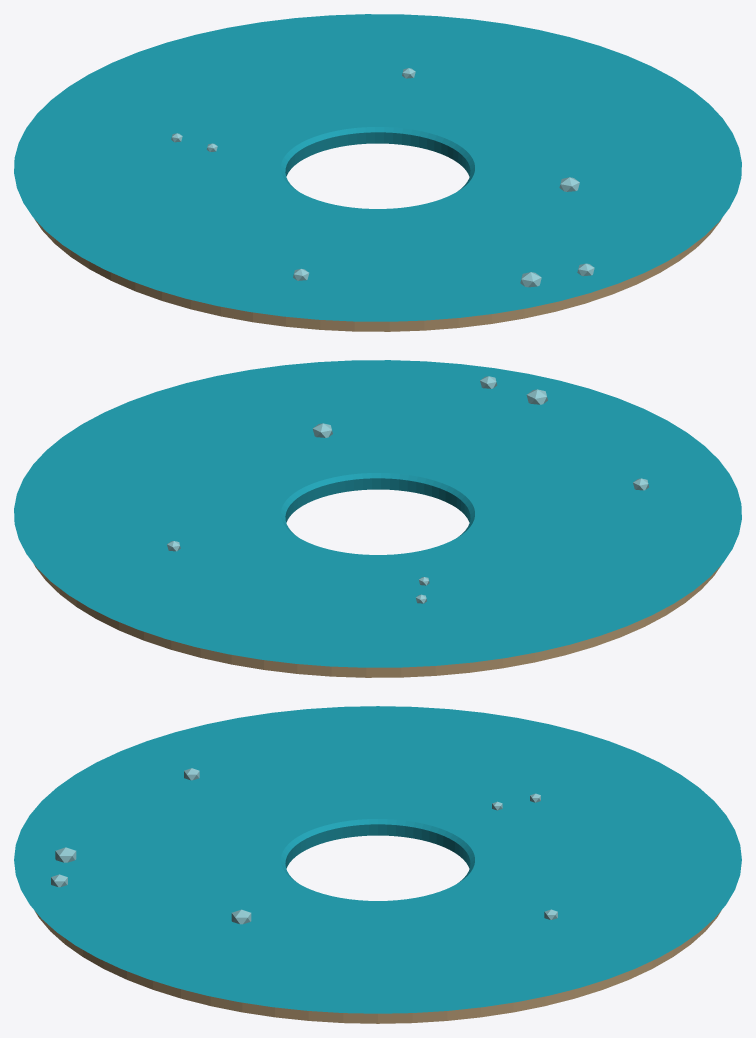
File: goo_jar_deck_3@beach.fbx
3 renders of one model, top to bottom at view 1: azimuth 30°, elevation 25°; view 2: azimuth 150°, elevation 25°; view 3: azimuth 270°, elevation 25°, orthographic.
Parts seen in each view (by area): view 1: goo_jar_deck_3; view 2: goo_jar_deck_3; view 3: goo_jar_deck_3.
Boxes of the visible parts, x1,y1,x2,y2 form: goo_jar_deck_3: [14, 14, 741, 331]; goo_jar_deck_3: [14, 360, 741, 677]; goo_jar_deck_3: [14, 706, 741, 1023].
Bounding box in the file's own units: 47.2 × 1.84 × 47.2.
